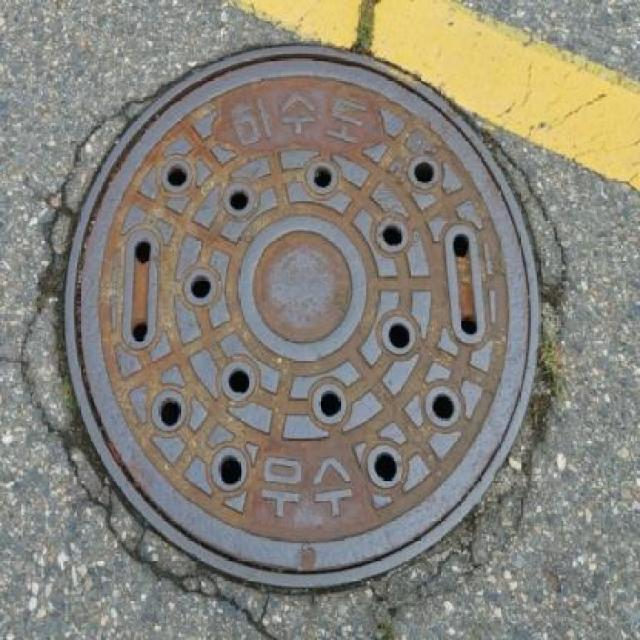Sewer Cover: (52, 67, 578, 583)
